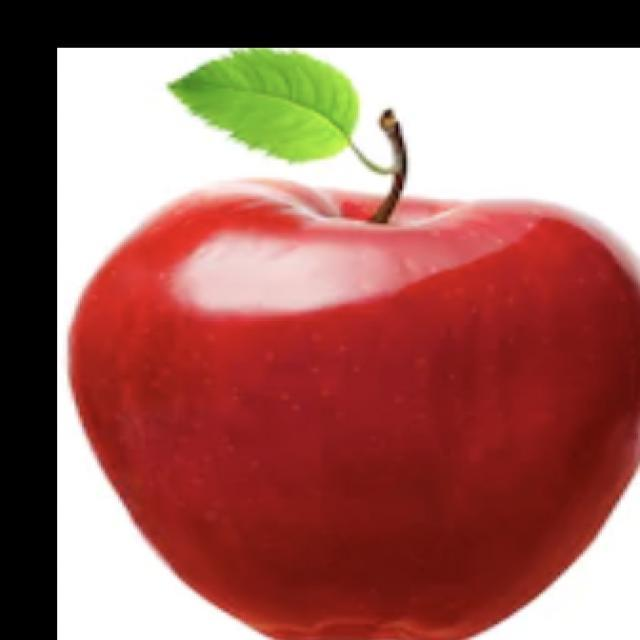Fresh Apple: (64, 184, 640, 640)
